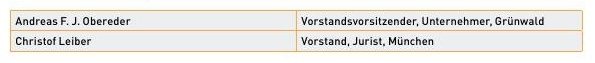table: (0, 0, 595, 63)
